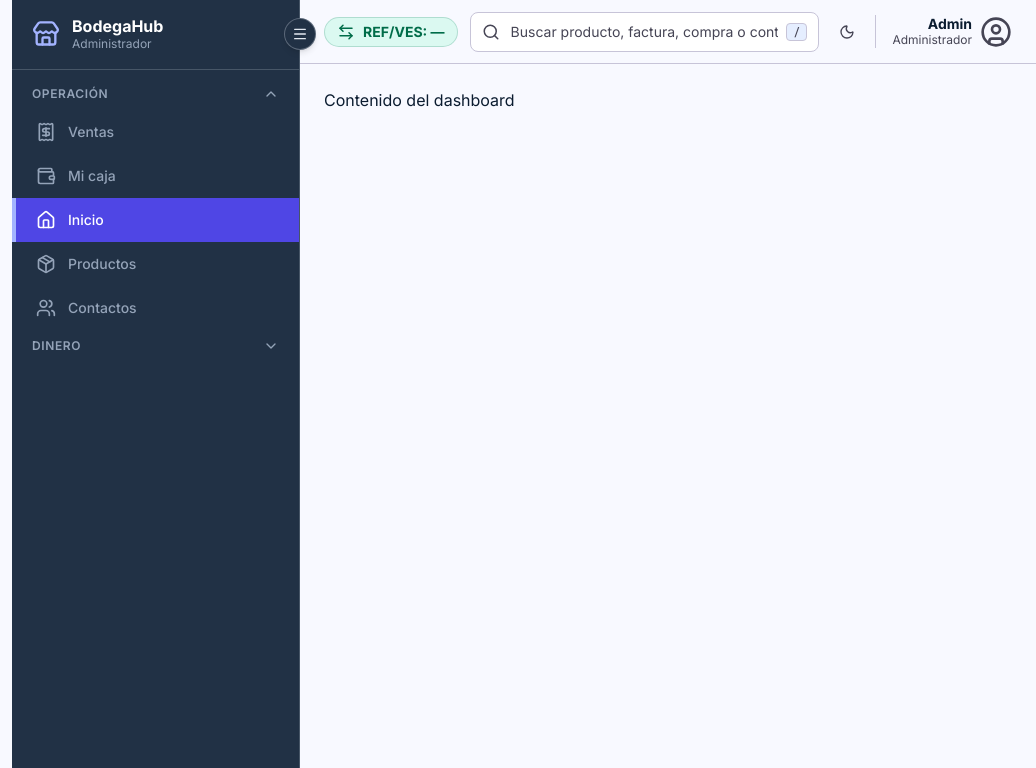
Test: AppShell › filters navigation by role permissions
This screenshot has width=1036, height=768.
Expected: the link "Ventas" is shown, top-left (36, 122), bottom-right (114, 142)
Expected: the link "mis recibos" is not shown
Click the button "Dinero" at (57, 345), box top-left (12, 330), bottom-right (299, 362)
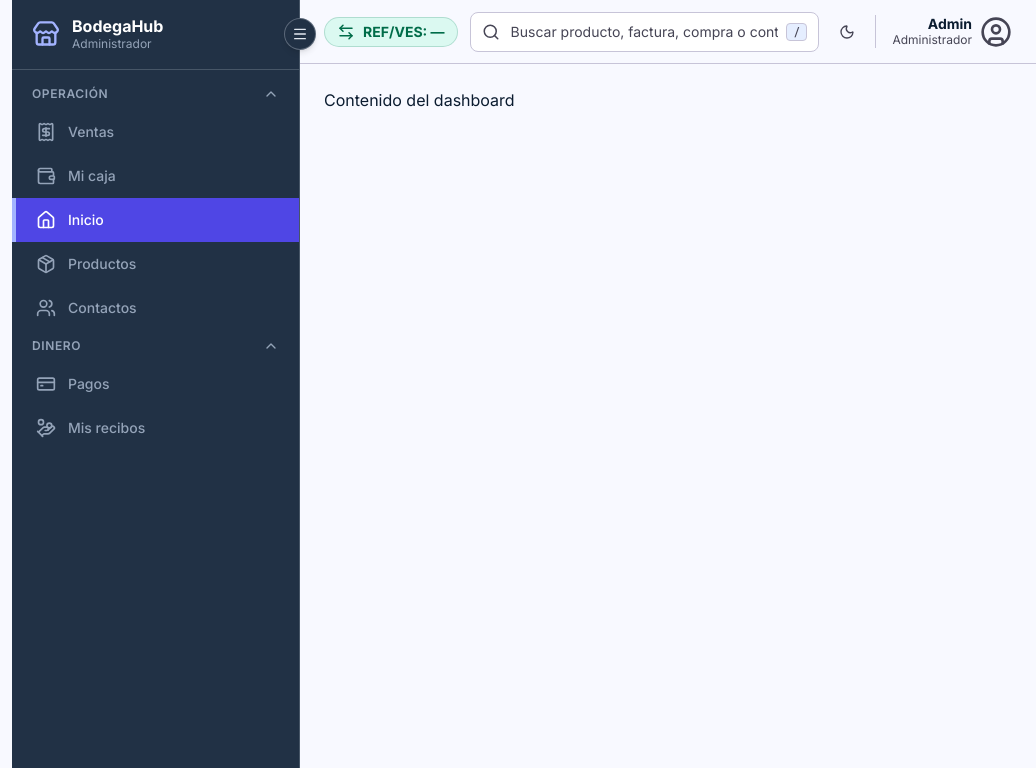
Result: the link "Mis recibos" is shown at top-left (36, 418), bottom-right (145, 438)
